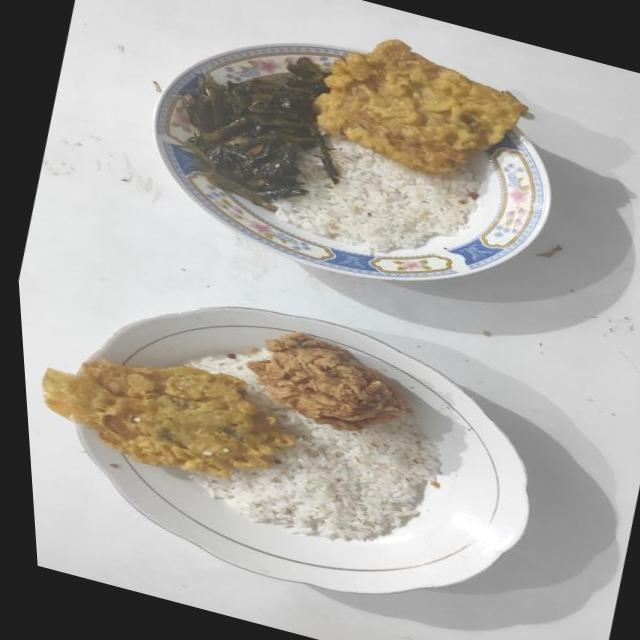nasi_putih: (192, 348, 442, 541), (274, 136, 484, 255)
tumis_kangkung: (182, 56, 338, 210)
